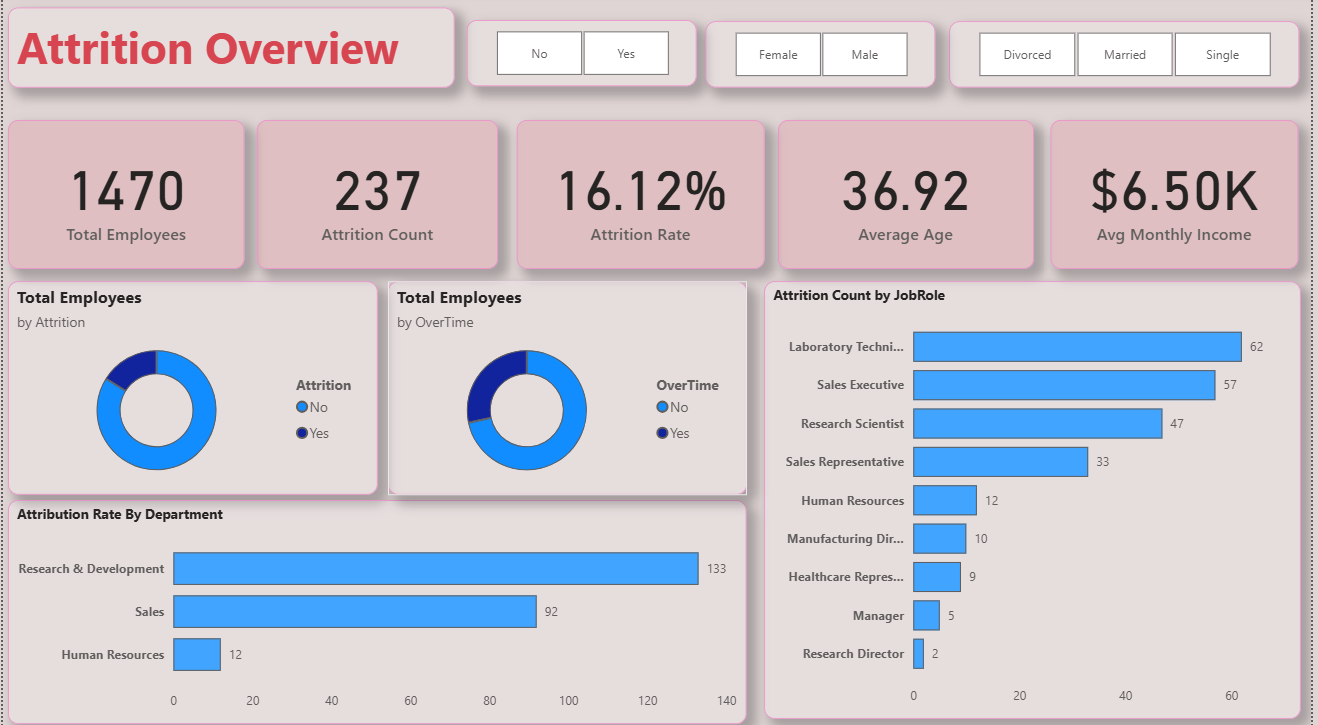

What the dashboard file says about the page in this screenshot:
{"tool":"powerbi","page":{"name":"Attrition Overview","canvas":[1280,720],"ordinal":0},"visuals":[{"type":"card","fields":{"Values":["HR-Employee-Attrition.Total Employees"]},"box":[5,121.9,231.4,145.5],"z":0},{"type":"card","fields":{"Values":["HR-Employee-Attrition.Attrition Count"]},"box":[248.8,121.9,236.4,145.5],"z":1000},{"type":"card","fields":{"Values":["HR-Employee-Attrition.Attrition Percentage"]},"box":[502.6,121.9,242.6,145.5],"z":2000},{"type":"card","fields":{"Values":["HR-Employee-Attrition.Average Age"]},"box":[757.6,121.9,250,145.5],"z":3000},{"type":"card","fields":{"Values":["HR-Employee-Attrition.Avg Monthly Income"]},"box":[1025,121.9,242.6,145.5],"z":4000},{"type":"donutChart","fields":{"Y":["HR-Employee-Attrition.Total Employees"],"Category":["HR-Employee-Attrition.Attrition"]},"box":[5,279.9,362,209],"z":5000},{"type":"barChart","title":"Attribution Rate By Department","fields":{"Category":["HR-Employee-Attrition.Department"],"Y":["HR-Employee-Attrition.Attrition Count"]},"box":[5,493.9,722.7,218.9],"z":6000},{"type":"barChart","fields":{"Category":["HR-Employee-Attrition.JobRole"],"Y":["HR-Employee-Attrition.Attrition Count"]},"box":[745.1,279.9,525,427.9],"z":7000},{"type":"donutChart","fields":{"Y":["HR-Employee-Attrition.Total Employees"],"Category":["HR-Employee-Attrition.OverTime"]},"box":[376.6,280,351,209.1],"z":8000},{"type":"textbox","box":[4.9,12.2,436.6,78.3],"z":9000},{"type":"slicer","fields":{"Values":["HR-Employee-Attrition.OverTime"]},"box":[453.7,24.5,225.2,64.7],"z":10000},{"type":"slicer","fields":{"Values":["HR-Employee-Attrition.MaritalStatus"]},"box":[925.5,26.1,342.1,64.7],"z":11000},{"type":"slicer","fields":{"Values":["HR-Employee-Attrition.Gender"]},"box":[687.2,25.7,225.2,64.7],"z":11001}]}

Visuals, with their boxes in screenshot pixels (x1, y1, x2, y2), scaled from the page's 1280x720 canvas onto the 1318x725 screenshot:
card - HR-Employee-Attrition.Total Employees: (left=5, top=123, right=243, bottom=269)
card - HR-Employee-Attrition.Attrition Count: (left=256, top=123, right=500, bottom=269)
card - HR-Employee-Attrition.Attrition Percentage: (left=518, top=123, right=767, bottom=269)
card - HR-Employee-Attrition.Average Age: (left=780, top=123, right=1038, bottom=269)
card - HR-Employee-Attrition.Avg Monthly Income: (left=1055, top=123, right=1305, bottom=269)
donutChart - HR-Employee-Attrition.Total Employees x HR-Employee-Attrition.Attrition: (left=5, top=282, right=378, bottom=492)
"Attribution Rate By Department" barChart: (left=5, top=497, right=749, bottom=718)
barChart - HR-Employee-Attrition.JobRole x HR-Employee-Attrition.Attrition Count: (left=767, top=282, right=1308, bottom=713)
donutChart - HR-Employee-Attrition.Total Employees x HR-Employee-Attrition.OverTime: (left=388, top=282, right=749, bottom=492)
textbox: (left=5, top=12, right=455, bottom=91)
slicer - HR-Employee-Attrition.OverTime: (left=467, top=25, right=699, bottom=90)
slicer - HR-Employee-Attrition.MaritalStatus: (left=953, top=26, right=1305, bottom=91)
slicer - HR-Employee-Attrition.Gender: (left=708, top=26, right=939, bottom=91)
